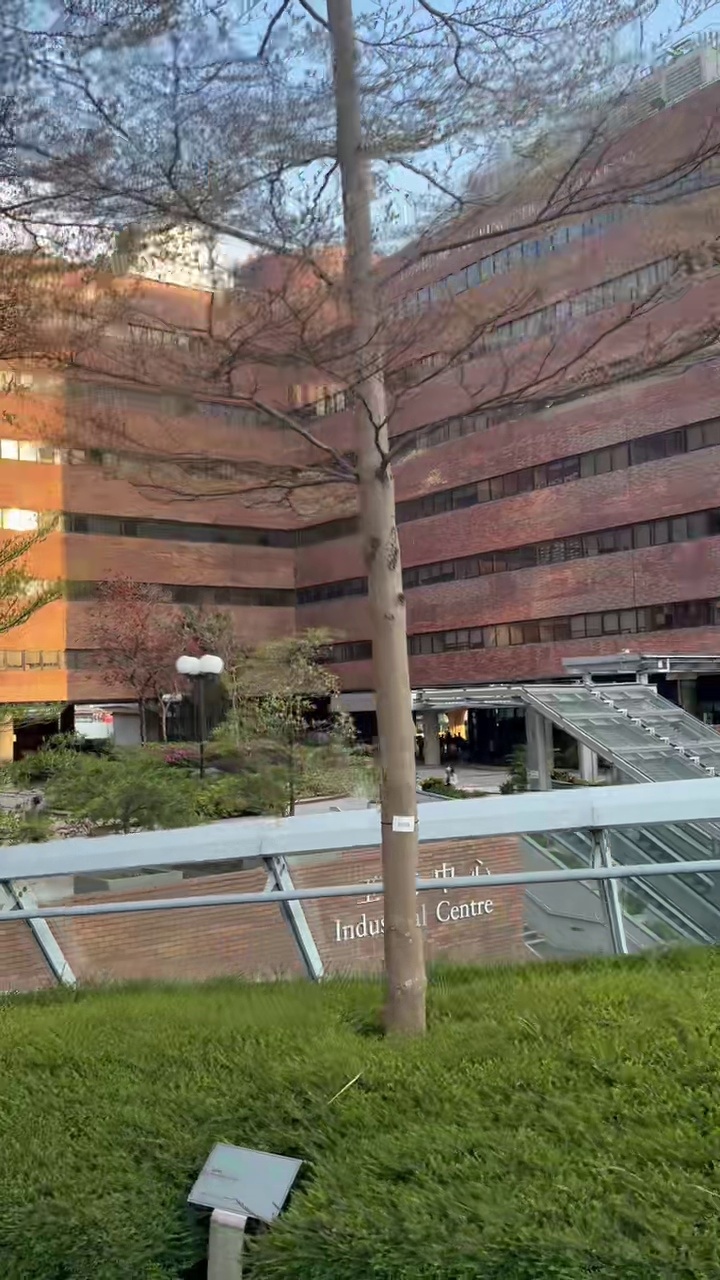Terminalia mantaly: (0, 0, 719, 1033)
